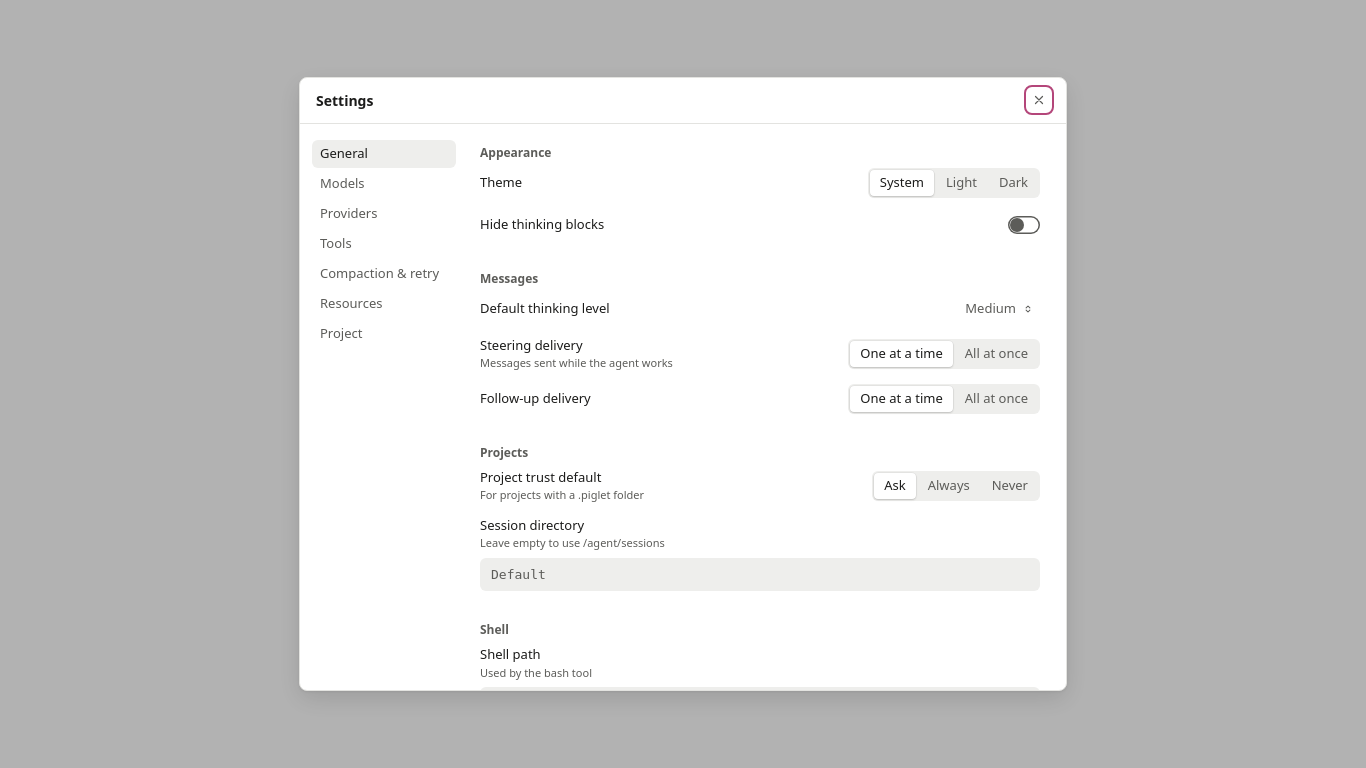
Scenario: Settings controls › shows on/off settings as switches that save when flipped
Click the switch named "Hide thinking blocks". click: (1024, 225)
box: [1008,216,1040,234]
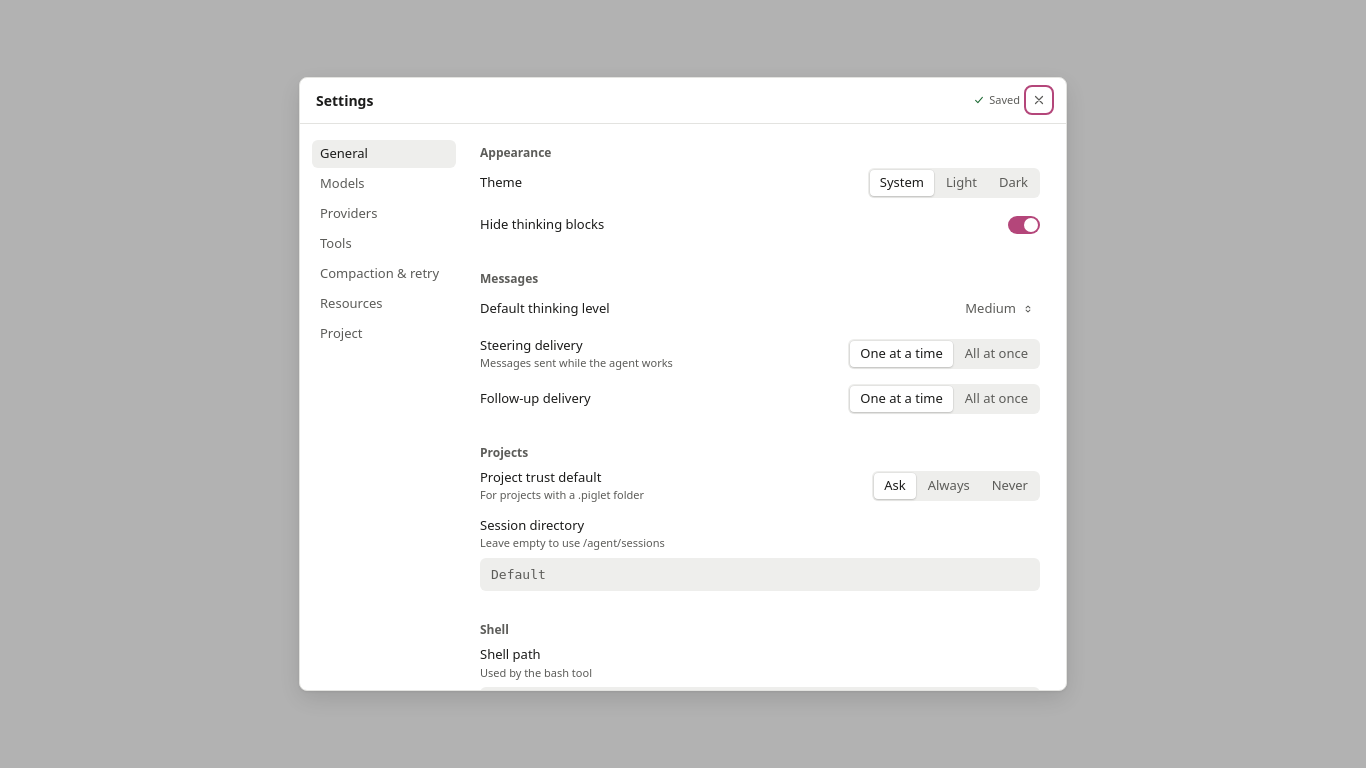
Check: the message "Saved" is shown, box [973,92,1020,108]
